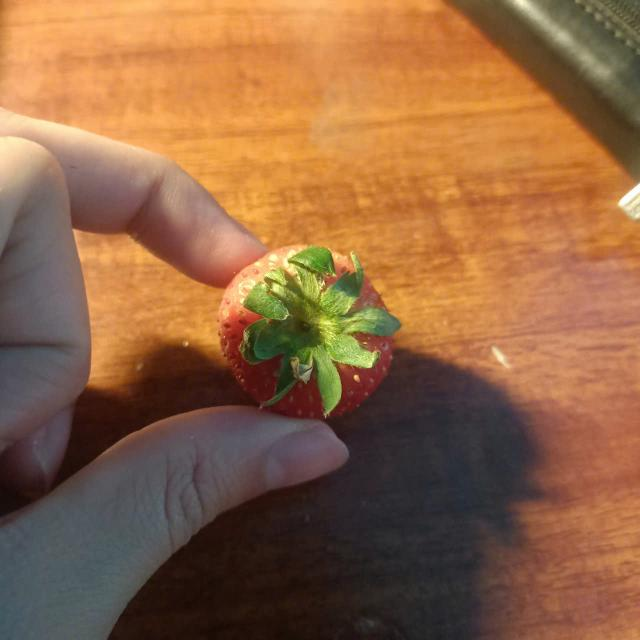DauTay: (217, 243, 418, 430)
